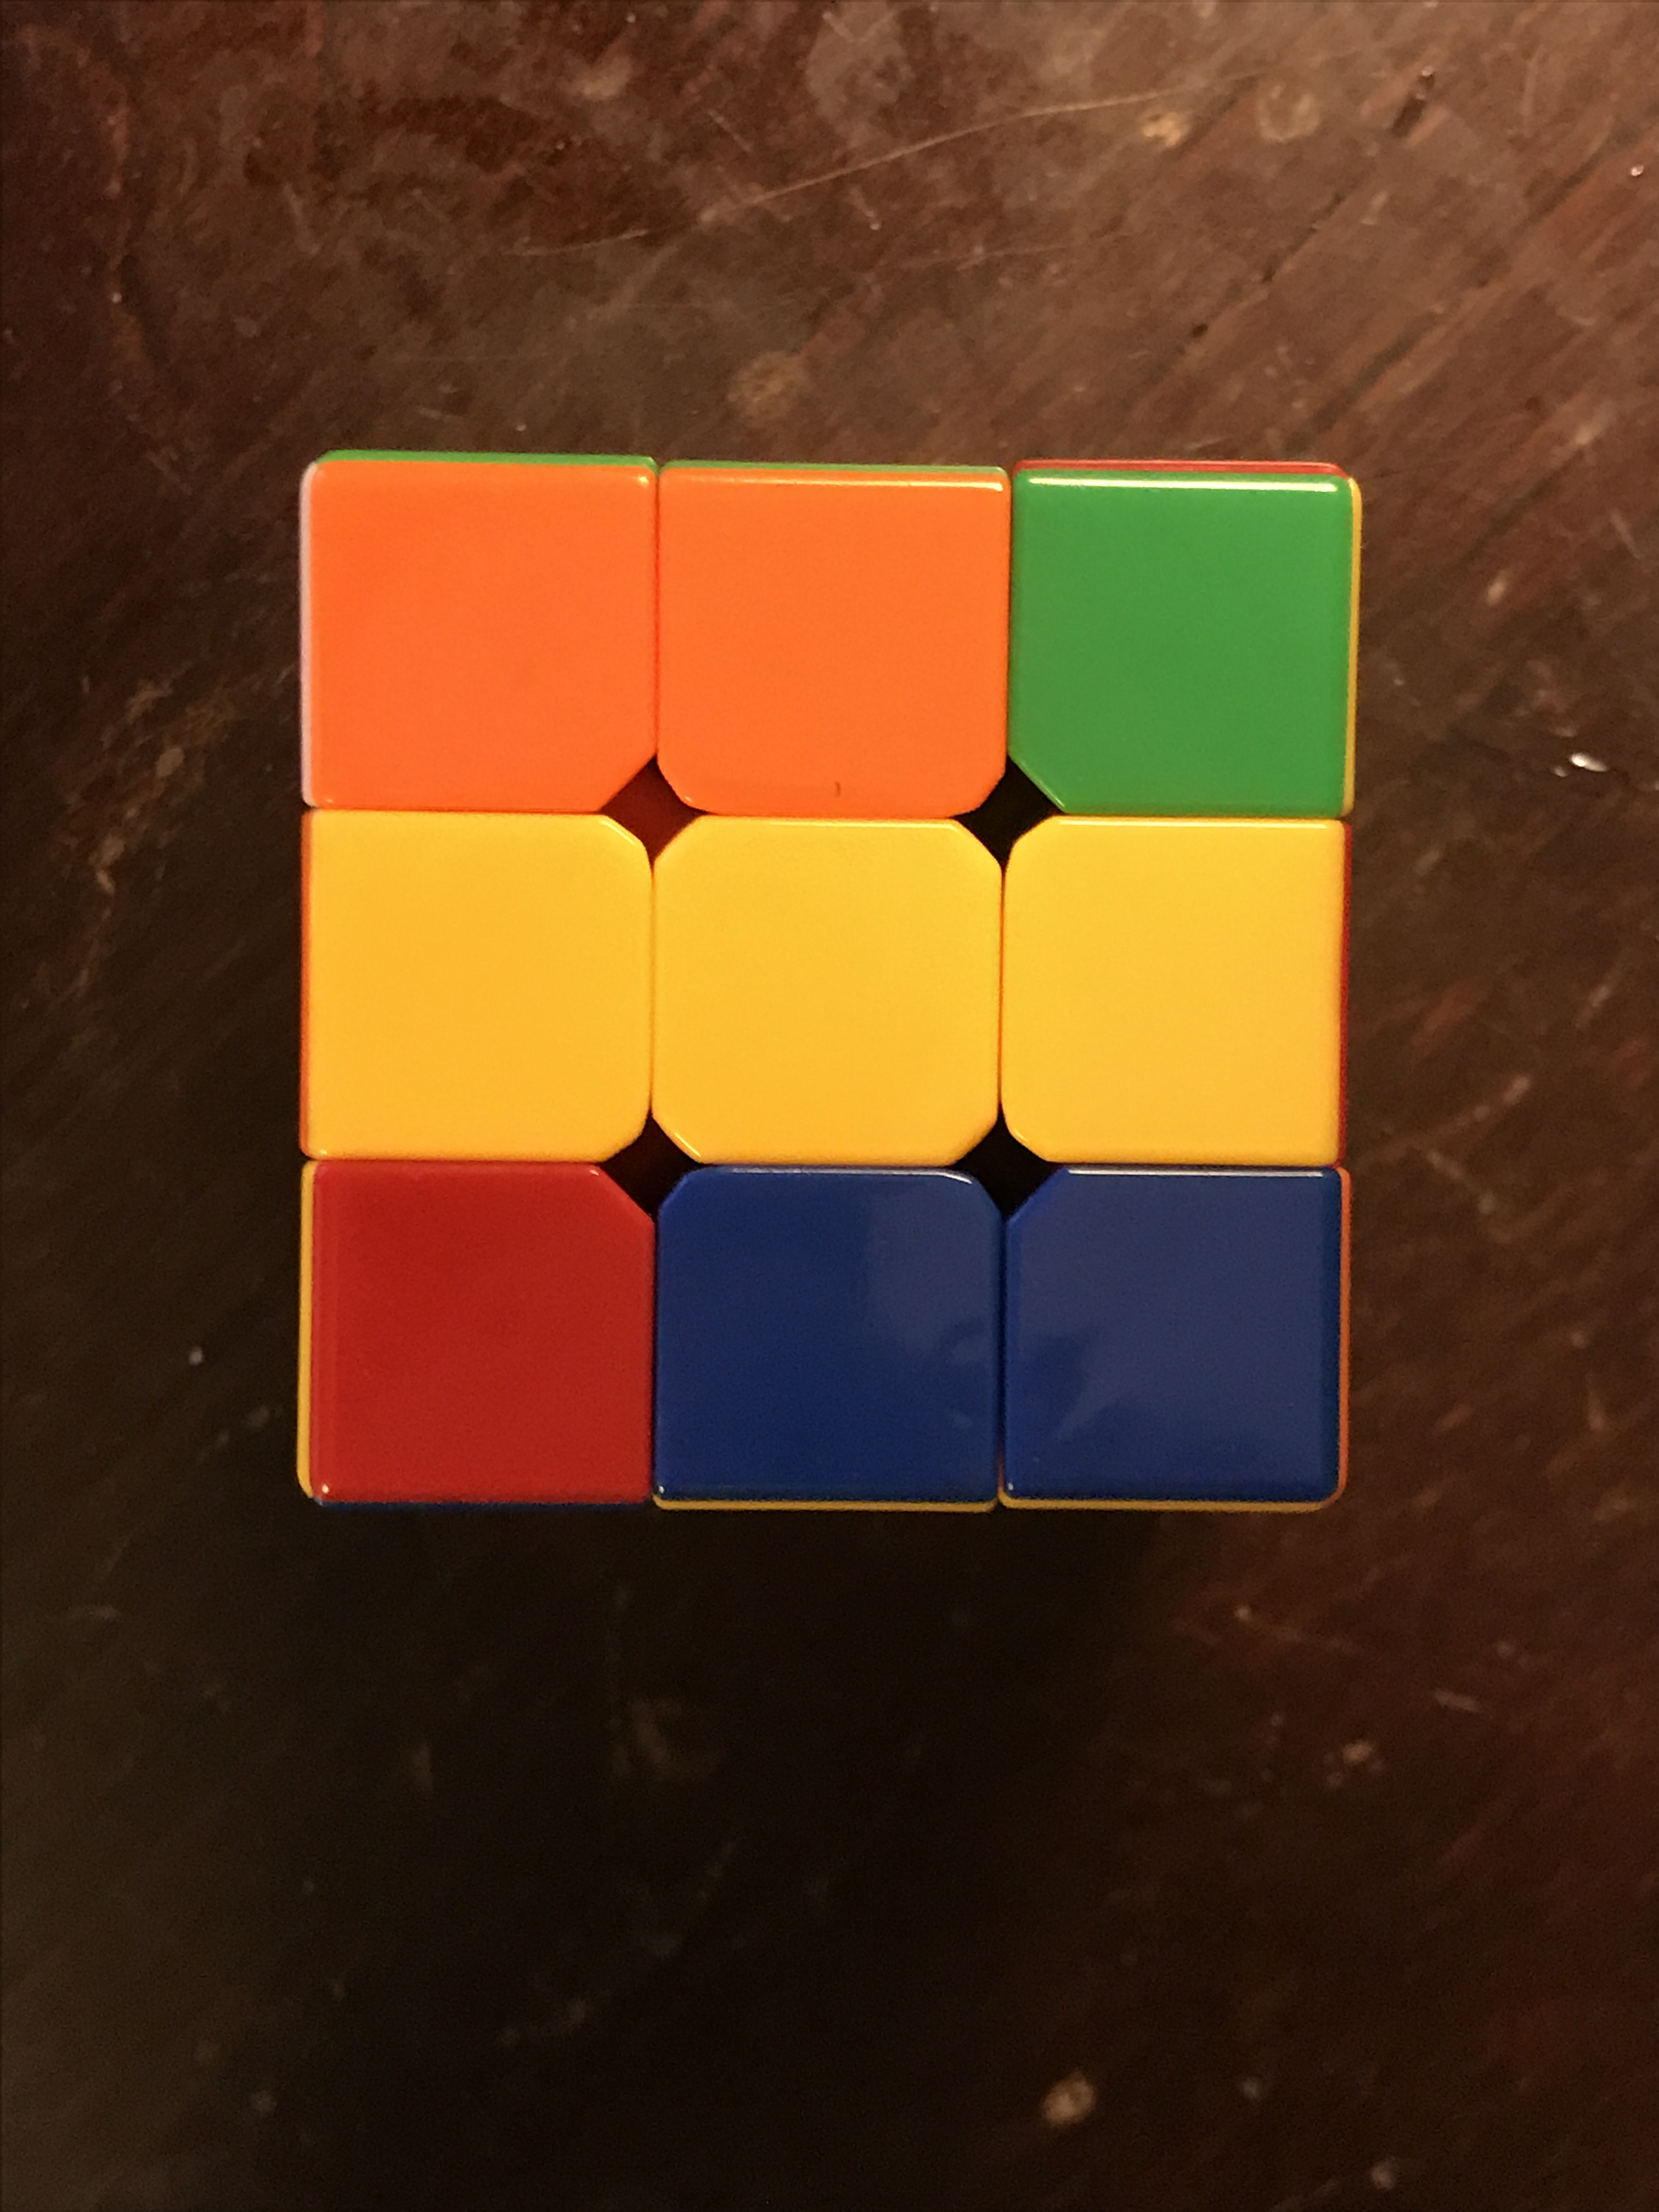rubiks: (296, 446, 1359, 1521)
